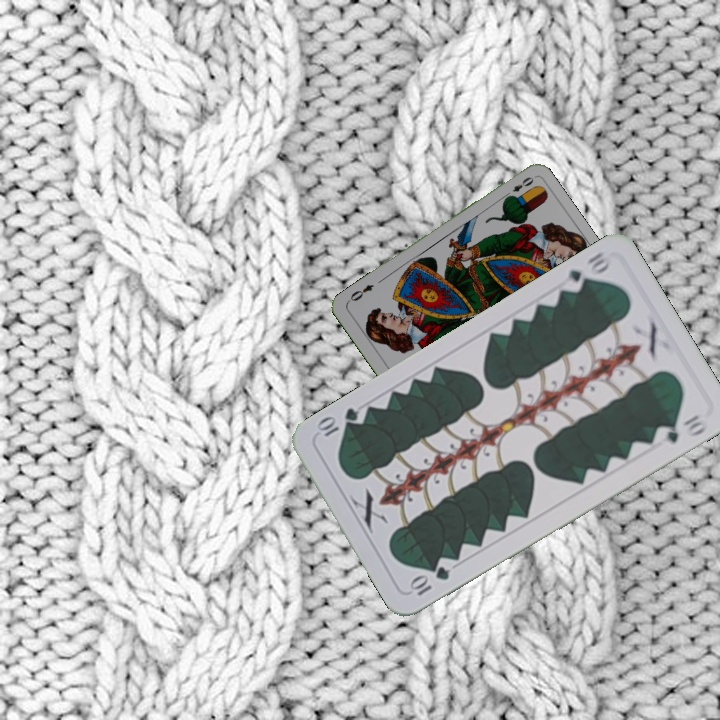EO: (500, 172, 536, 201)
G10: (558, 247, 614, 296), (405, 562, 453, 599)
